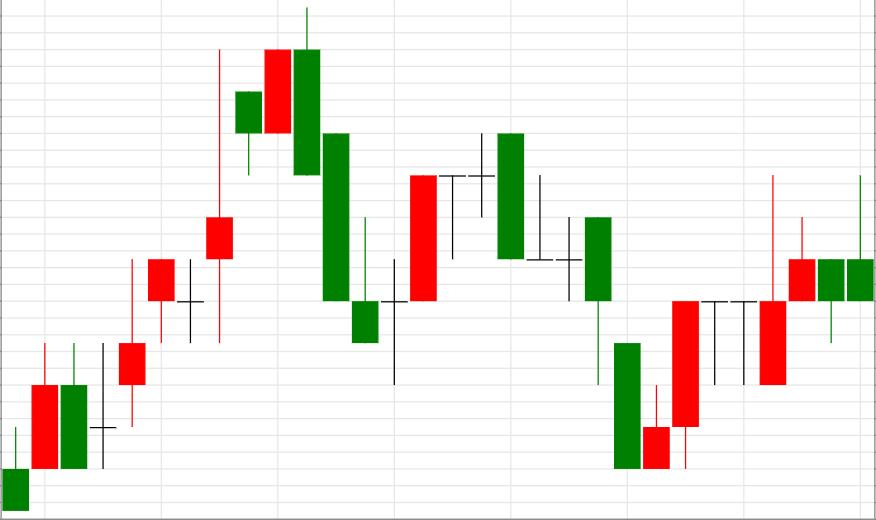bearish_engulfing_fall: (90, 8, 320, 469)
